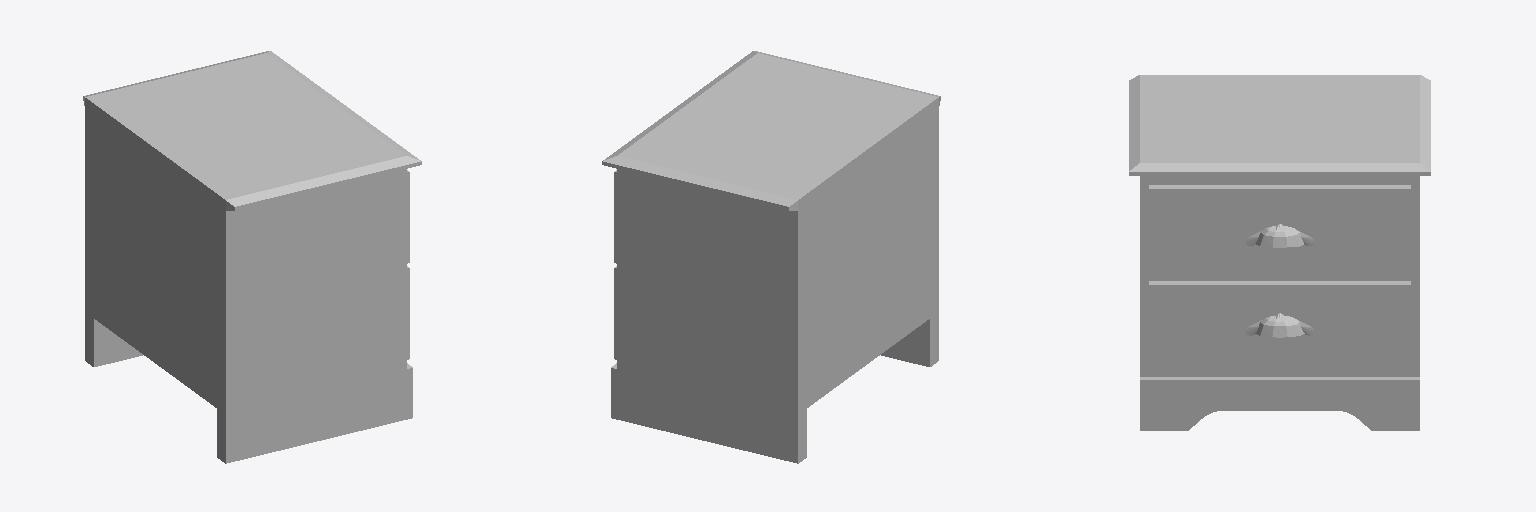
File: nightstand.obj
3 renders of one model, left to right at view 1: azimuth 30°, elevation 25°; view 2: azimuth 150°, elevation 25°; view 3: azimuth 270°, elevation 25°, orthographic.
Visible parts, largest first — view 1: eb_nightstand_01; view 2: eb_nightstand_01; view 3: eb_nightstand_01.
Part boxes in pixels (bbox=[...]): eb_nightstand_01: bbox=[83, 51, 421, 463]; eb_nightstand_01: bbox=[602, 51, 940, 463]; eb_nightstand_01: bbox=[1129, 75, 1430, 430].
Size of the model in its own units: 5.77 by 7.23 by 7.52.